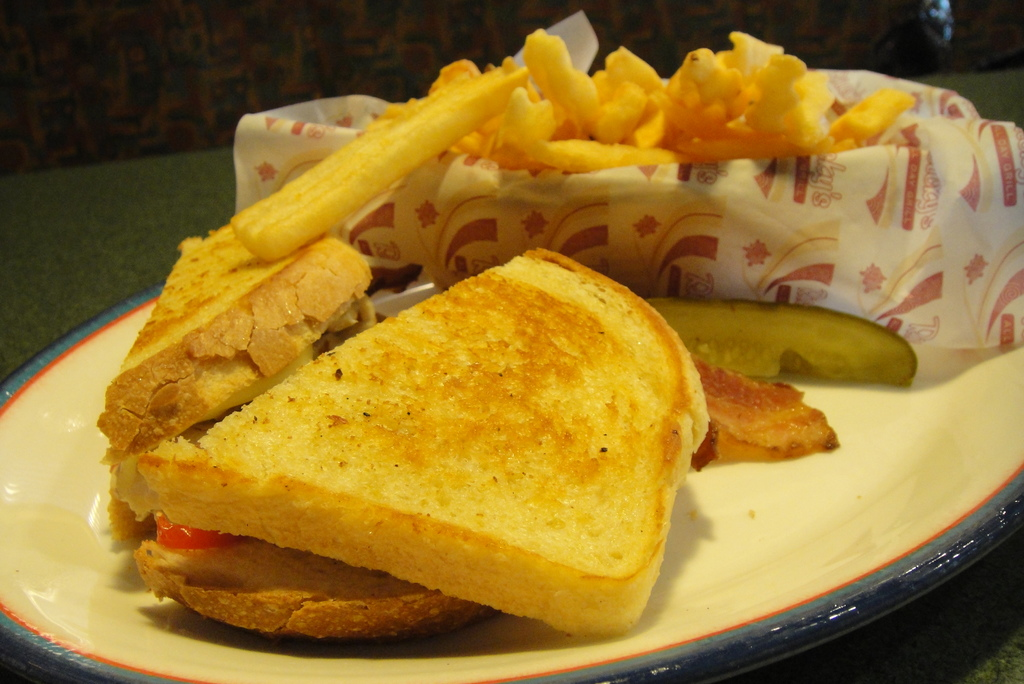French fries: (151, 28, 908, 256)
